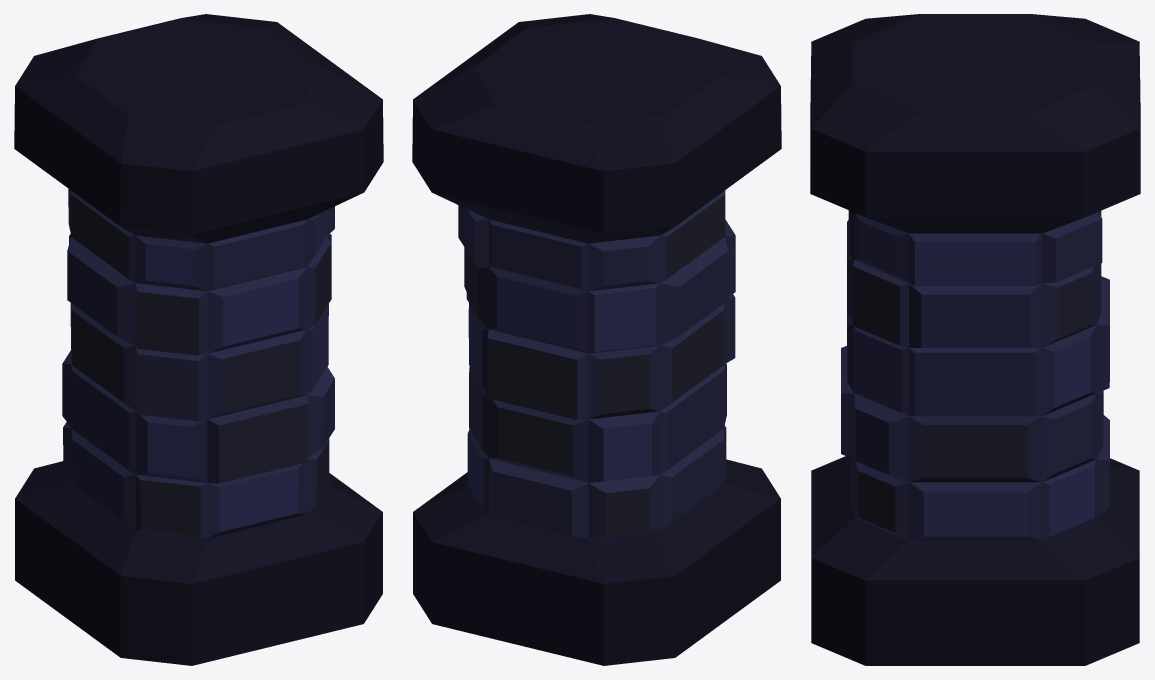
Rendered from Pillar1.fbx.
3 renders of one model, left to right at view 1: azimuth 30°, elevation 25°; view 2: azimuth 150°, elevation 25°; view 3: azimuth 270°, elevation 25°, orthographic. The views are drawn at different scales.
Visible parts, largest first — view 1: Object010; view 2: Object010; view 3: Object010.
Boxes of the visible parts, x1,y1,x2,y2 form: Object010: (14, 14, 383, 665); Object010: (412, 14, 781, 665); Object010: (810, 14, 1140, 665).
Bounding box in the file's own units: 22.54 × 23.5 × 42.12.
